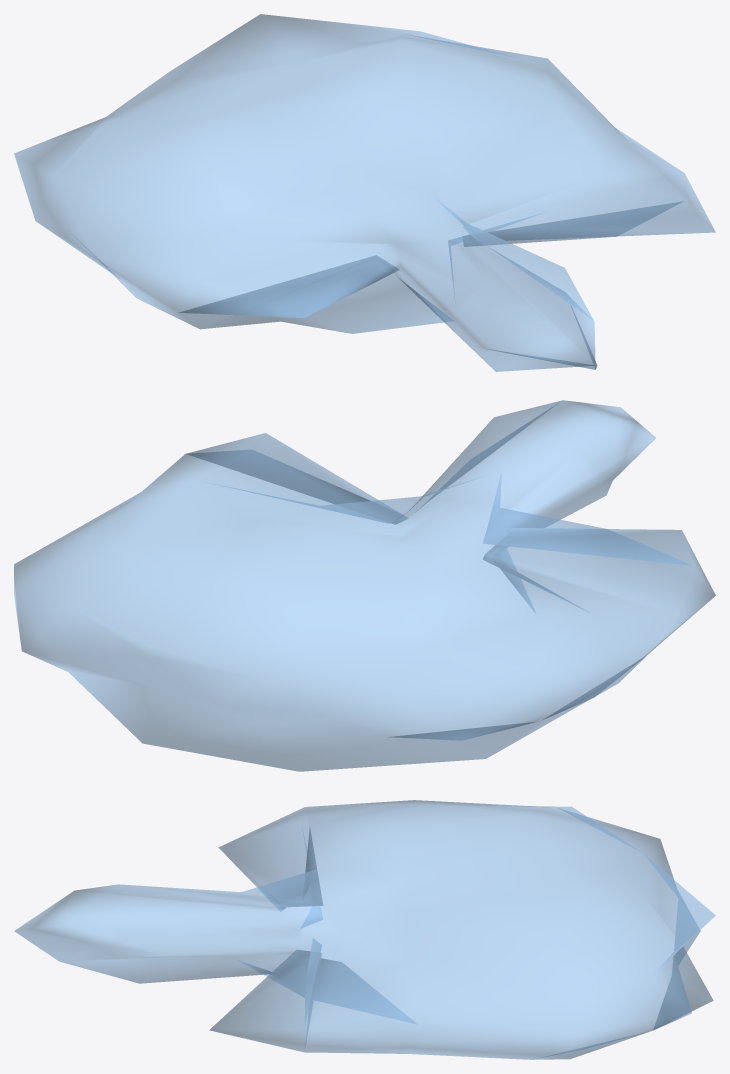
The model's file is mzealot_shield.gltf.
The picture shows the model from 3 angles, top to bottom: view 1: azimuth 30°, elevation 25°; view 2: azimuth 150°, elevation 25°; view 3: azimuth 270°, elevation 25°; orthographic projection. The views are drawn at different scales.
Parts seen in each view (by area): view 1: mzealot.shield; view 2: mzealot.shield; view 3: mzealot.shield.
Part boxes in pixels (x1,y1,x2,y2): mzealot.shield: (14, 14, 715, 371); mzealot.shield: (14, 400, 715, 771); mzealot.shield: (14, 800, 715, 1059).
Size of the model in its own units: 6.34 by 1.63 by 8.07.
